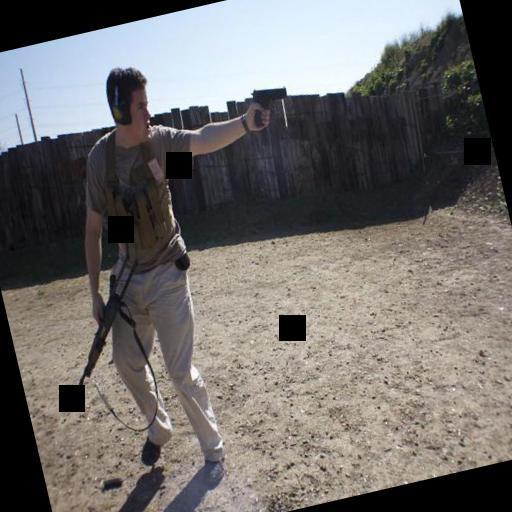Handgun: (241, 78, 297, 132)
